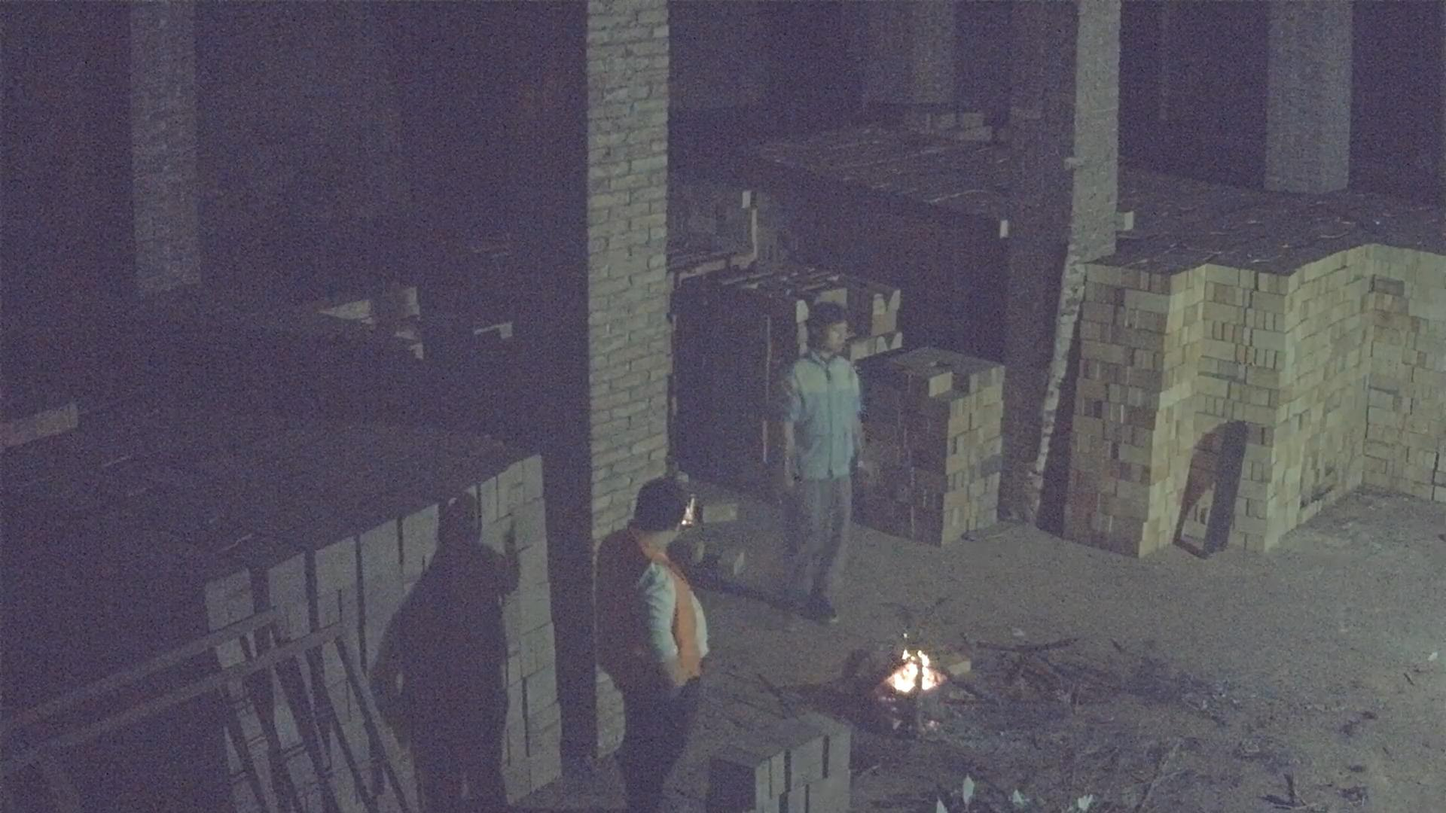fire: (885, 650, 946, 700)
